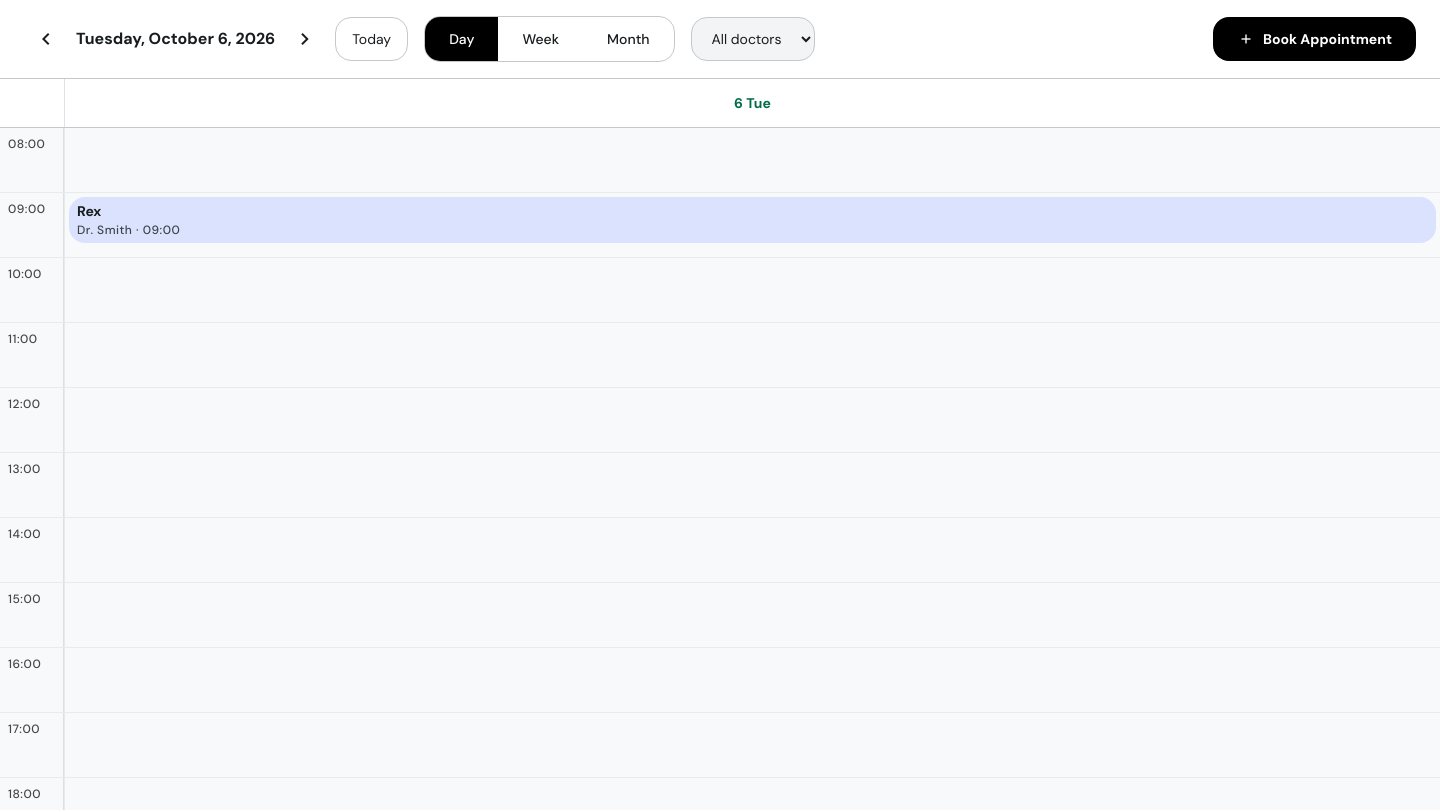
Test: ClinicAppointments — AppointmentDetail for doctor (appointments.view only, read-only) › the detail dialog still opens — view is not blocked
This screenshot has width=1440, height=810.
Click the text "Rex".
click(89, 211)  # box [77,202,101,220]
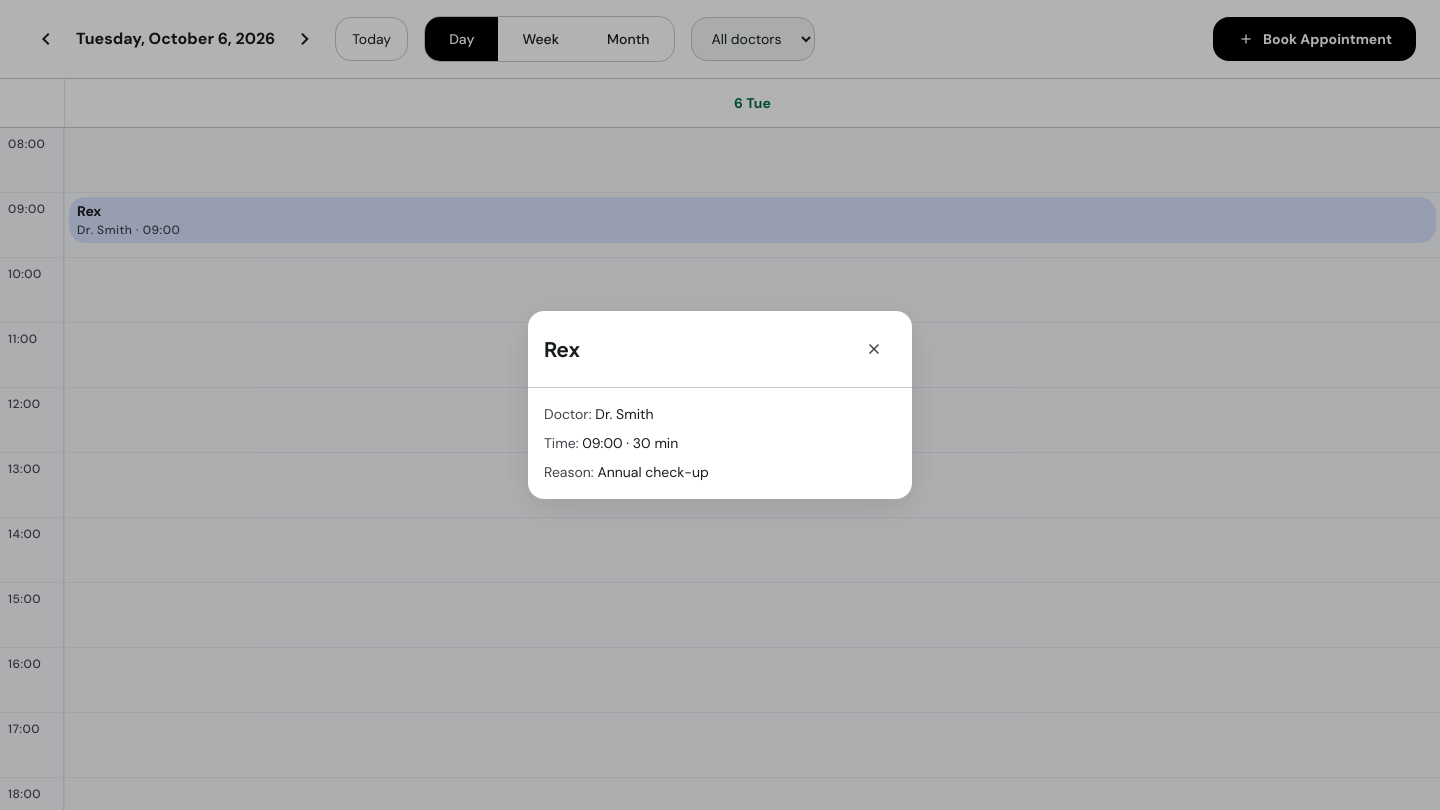
Expected: the heading "Rex" is shown, [544,336,580,362]
Expected: the text "Doctor: Dr. Smith" is shown, [544,405,654,423]
